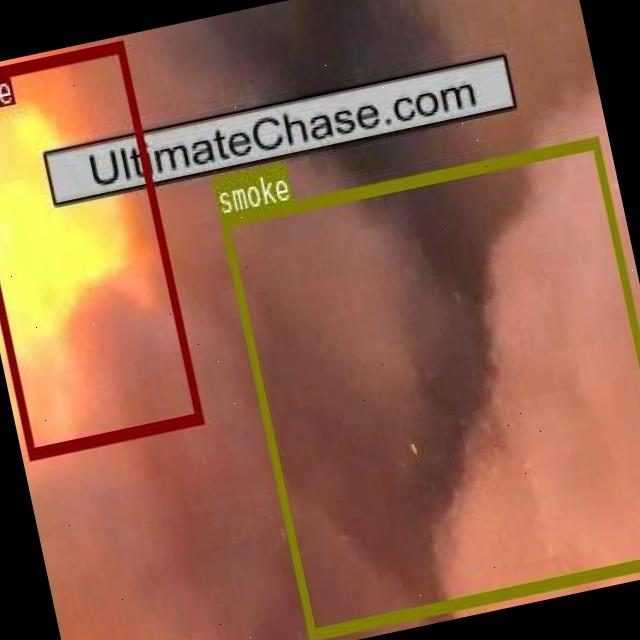fire: (0, 38, 201, 457)
smoke: (218, 134, 640, 638)
